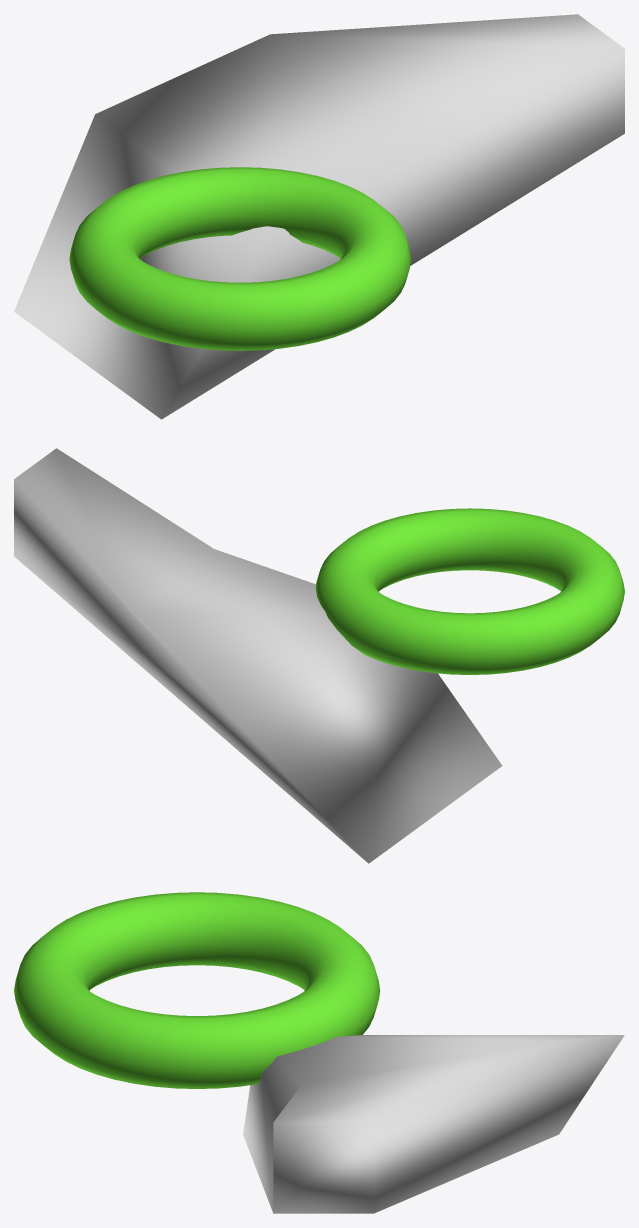
3 views of the same model, one above another, from view 1: azimuth 30°, elevation 25°; view 2: azimuth 150°, elevation 25°; view 3: azimuth 270°, elevation 25° (orthographic). The views are drawn at different scales.
Parts seen in each view (by area): view 1: Cube, Torus; view 2: Cube, Torus; view 3: Cube, Torus.
Boxes of the visible parts, bbox=[...] form: Cube: bbox=[14, 14, 624, 419]; Torus: bbox=[69, 167, 411, 350]; Cube: bbox=[14, 448, 502, 863]; Torus: bbox=[316, 508, 624, 674]; Cube: bbox=[243, 1035, 624, 1213]; Torus: bbox=[14, 892, 380, 1088].
Size of what is drawn, in the model's own units: 4.8 by 1.97 by 4.17.
